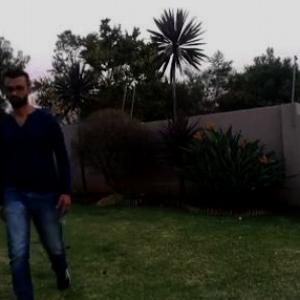follow: (1, 84, 56, 286)
